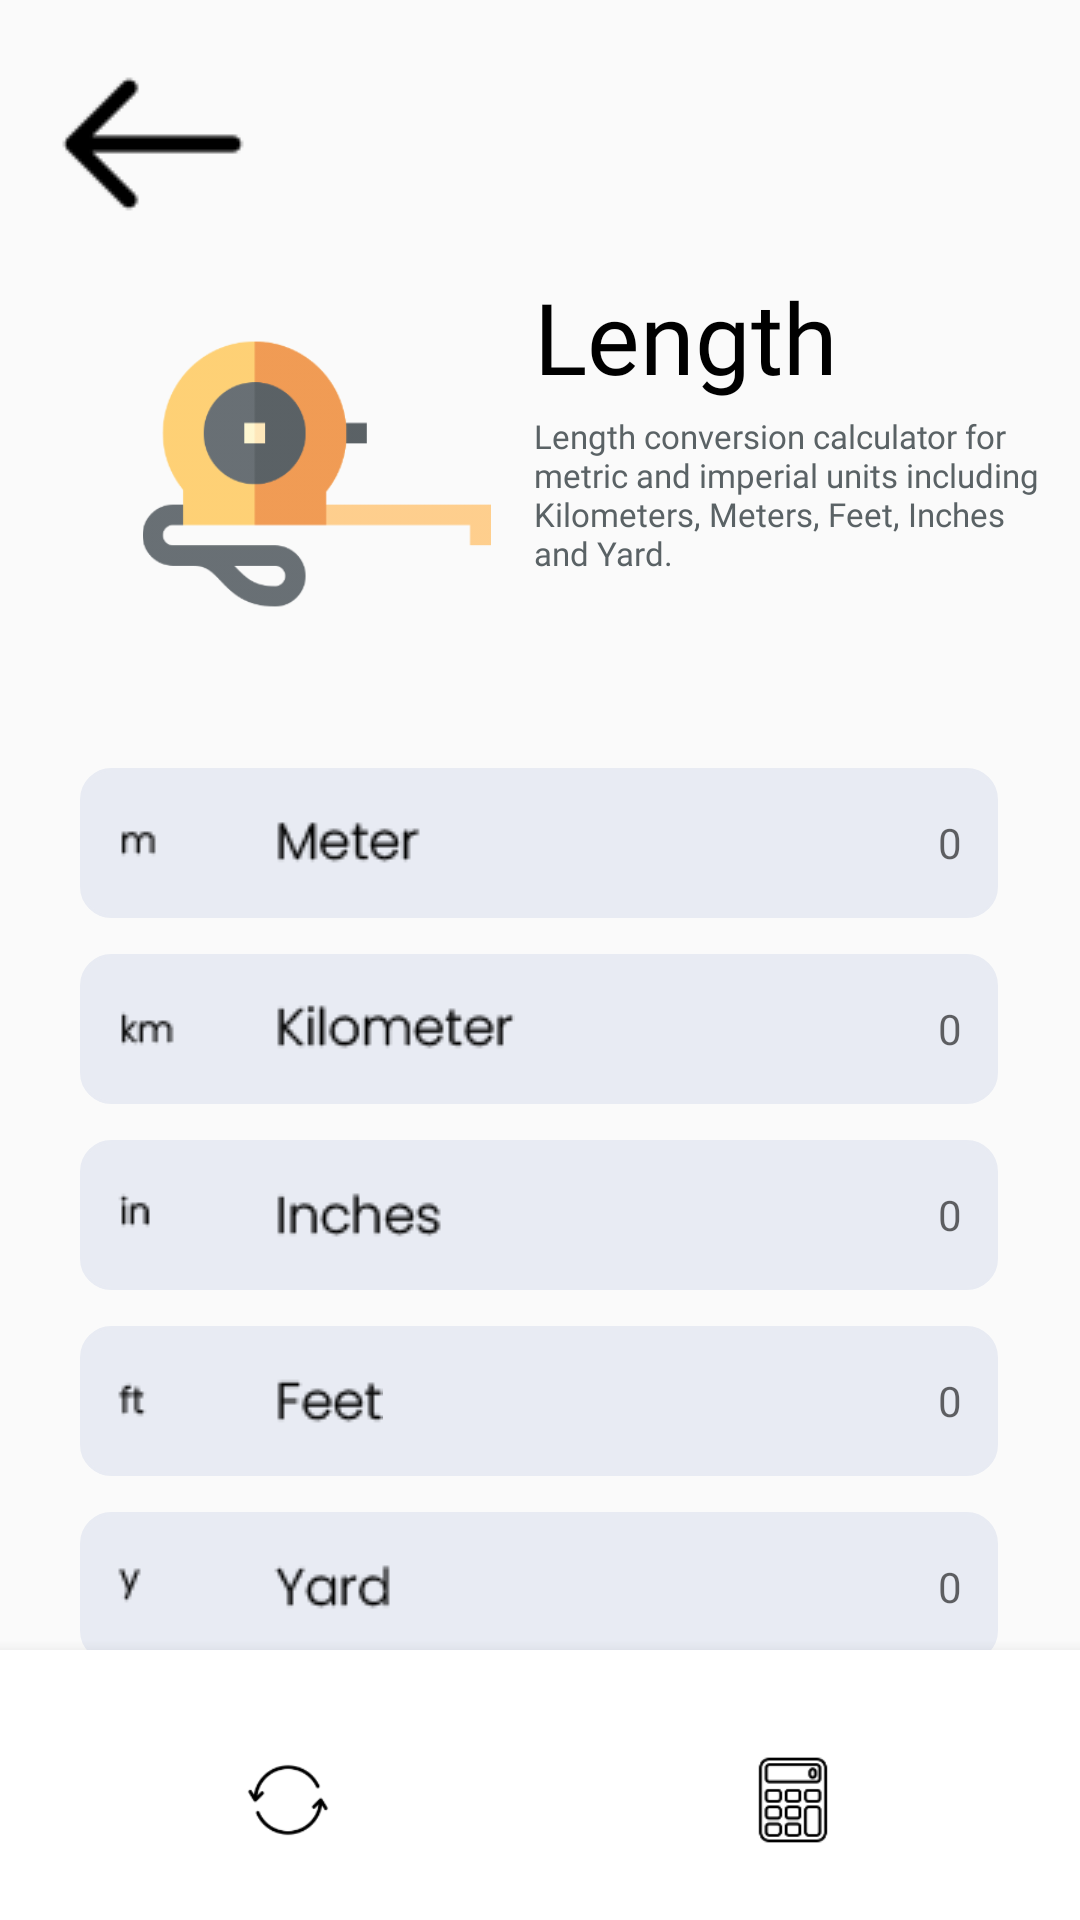

Icons on this 1080w x 1920h Android screen, each with the point to tap as point (x, y):
arrow: point (153, 144)
